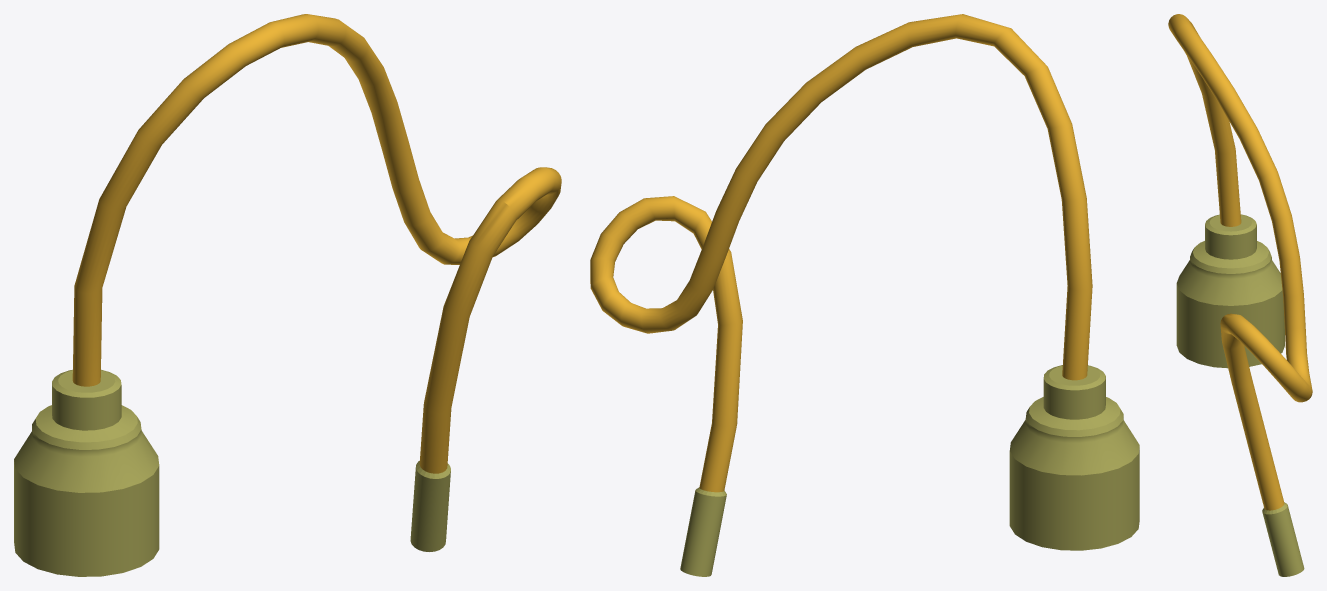
File: Engine_04.fbx
3 renders of one model, left to right at view 1: azimuth 30°, elevation 25°; view 2: azimuth 150°, elevation 25°; view 3: azimuth 270°, elevation 25°, orthographic. The views are drawn at different scales.
Visible parts, largest first — view 1: Engine_04; view 2: Engine_04; view 3: Engine_04.
Boxes of the visible parts, x1,y1,x2,y2 form: Engine_04: [14, 14, 561, 576]; Engine_04: [590, 14, 1139, 576]; Engine_04: [1168, 14, 1312, 576].
Bounding box in the file's own units: 0.6745 × 0.7168 × 0.2006.
